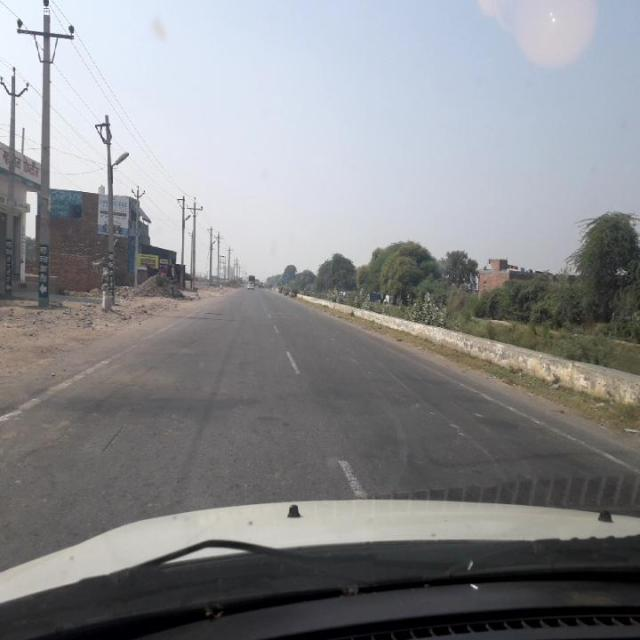D00: (99, 422, 127, 454)
